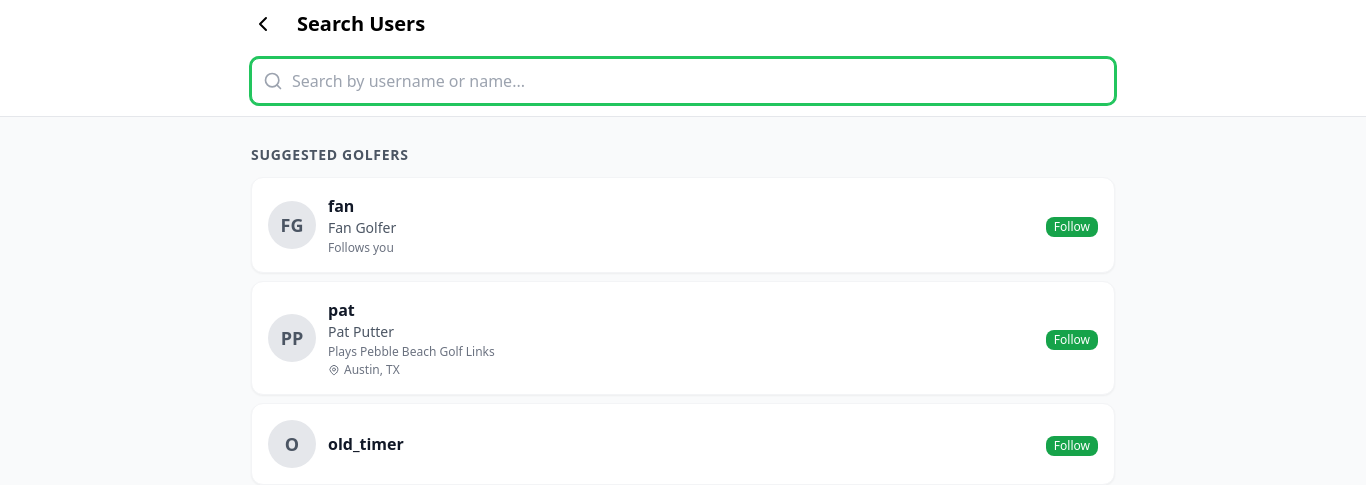
Test case: search results are shown as before, without suggestion reasons
Expected: the text "Follows you" is shown, [328,239,394,256]
In the field with placeholder "Search by username or name...": (683, 81) [251,58,1115,104], type "sam"
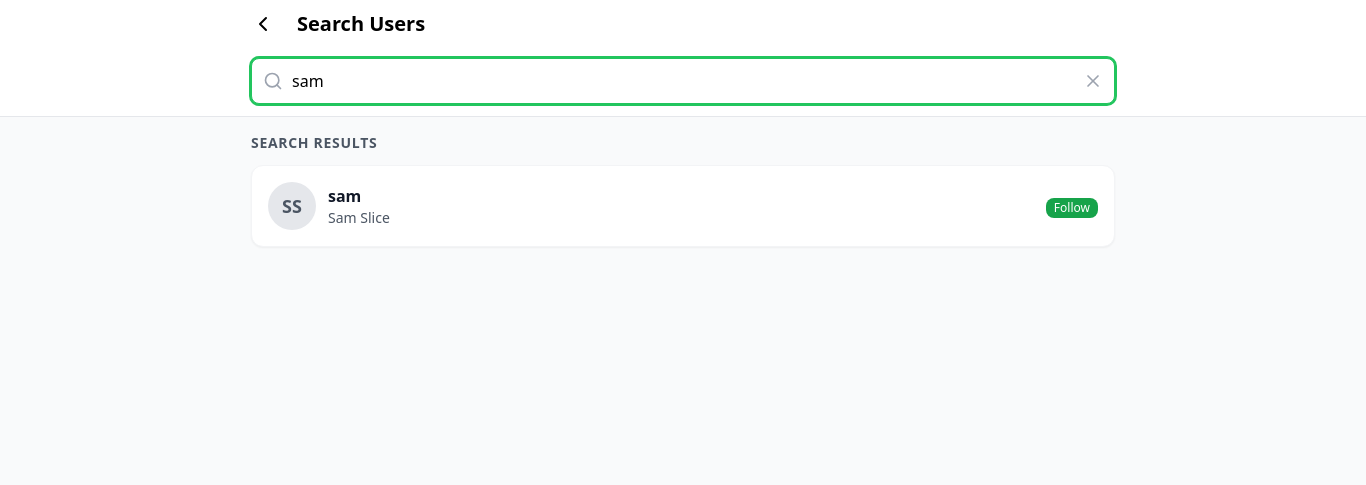
Expected: the heading "Search Results" is shown, [251,133,377,152]
Expected: the text "Sam Slice" is shown, [328,208,390,227]
Expected: the link "Follows you" is gone
